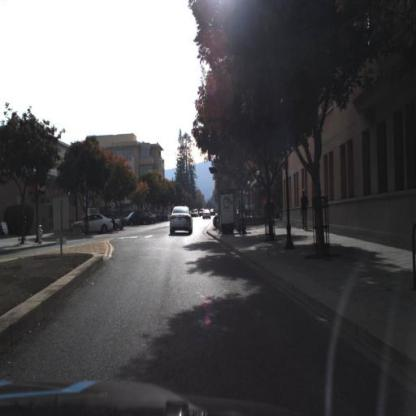car: (69, 211, 114, 236), (170, 205, 193, 237)
pedestrian: (298, 188, 310, 232)
